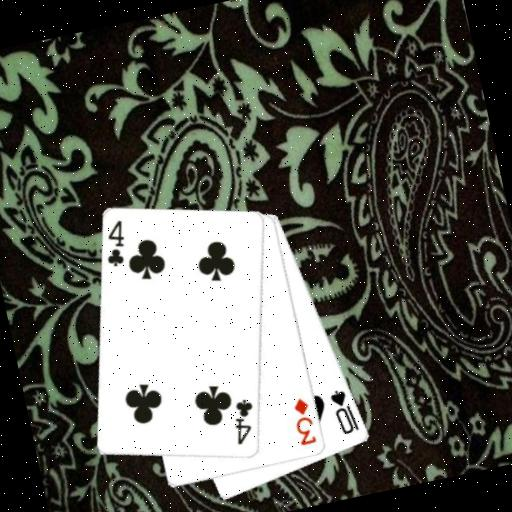10S: (326, 383, 362, 437)
3D: (287, 394, 319, 448)
4C: (96, 216, 133, 271), (226, 394, 262, 447)
